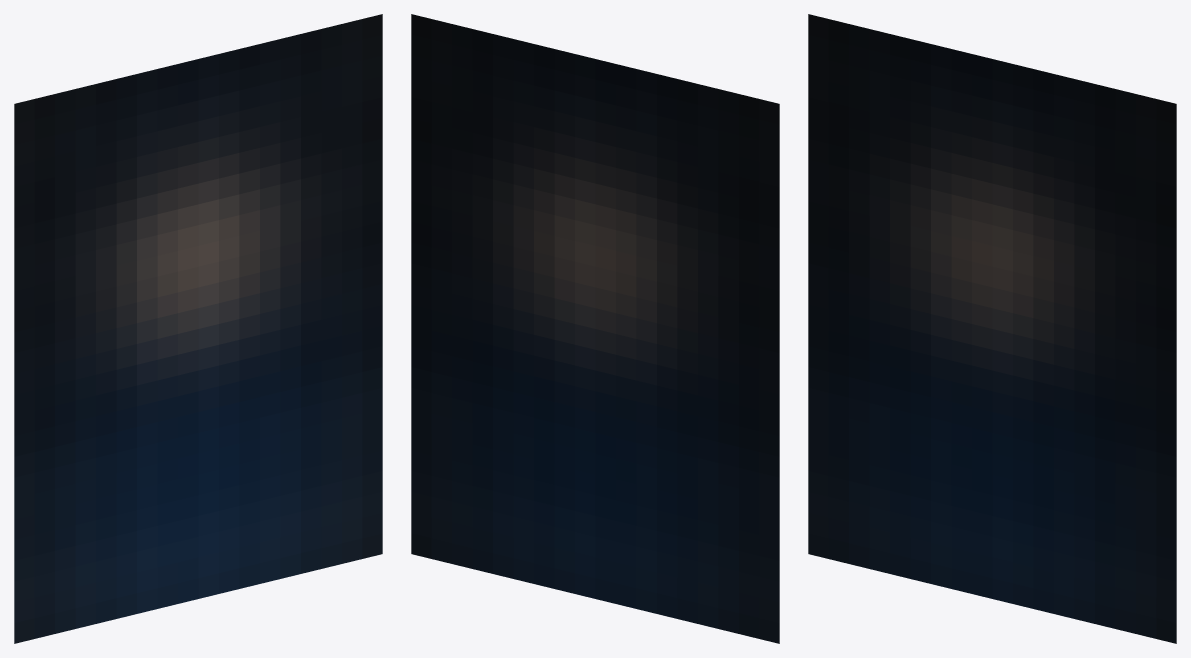
Rendered from back_wall_blue_portrait.obj.
The picture shows the model from 3 angles, left to right: view 1: azimuth 30°, elevation 25°; view 2: azimuth 150°, elevation 25°; view 3: azimuth 330°, elevation 25°; orthographic projection.
Visible parts, largest first — view 1: back_wall_blue_portrait; view 2: back_wall_blue_portrait; view 3: back_wall_blue_portrait.
Part boxes in pixels (x1,y1,x2,y2): back_wall_blue_portrait: (14,14,382,643); back_wall_blue_portrait: (411,14,779,643); back_wall_blue_portrait: (808,14,1176,643).
Size of the model in its own units: 1 by 1.4 by 0.
